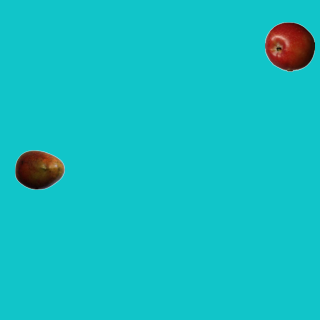Apple Braeburn: (264, 21, 314, 71)
Mango Red: (14, 144, 64, 194)
